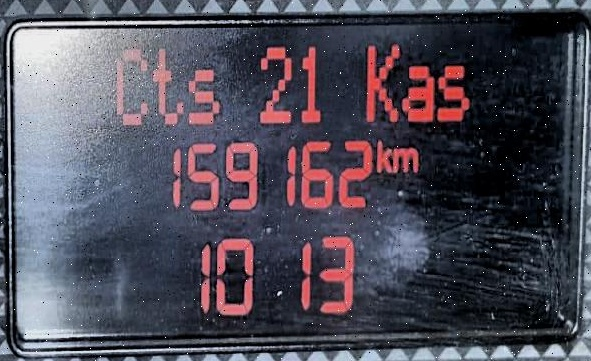0: (214, 236, 253, 316)
1: (299, 43, 321, 123), (197, 239, 212, 315), (298, 238, 312, 311), (169, 145, 182, 209), (284, 144, 296, 209)
2: (256, 44, 293, 125), (337, 138, 372, 207)
3: (316, 234, 353, 314)
5: (185, 140, 220, 213)
6: (299, 139, 333, 209)
9: (224, 140, 257, 211)
X: (364, 42, 400, 123), (114, 47, 149, 127), (150, 47, 184, 126), (184, 67, 221, 125), (400, 63, 433, 122), (435, 63, 468, 120), (391, 147, 418, 172), (374, 139, 391, 172)
